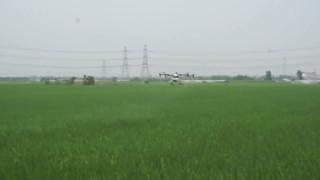UAV: (159, 72, 196, 86)
